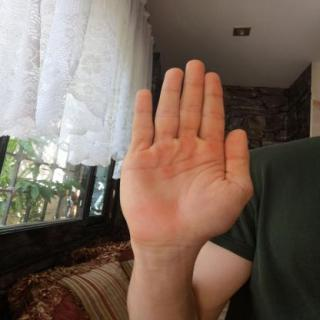SEEN: (105, 50, 262, 251)
